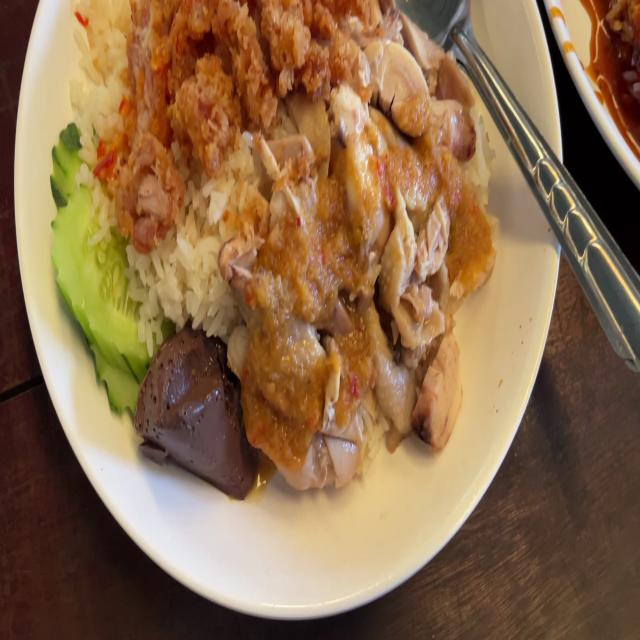chicken_rice: (244, 23, 482, 466)
noodle: (133, 316, 260, 502)
